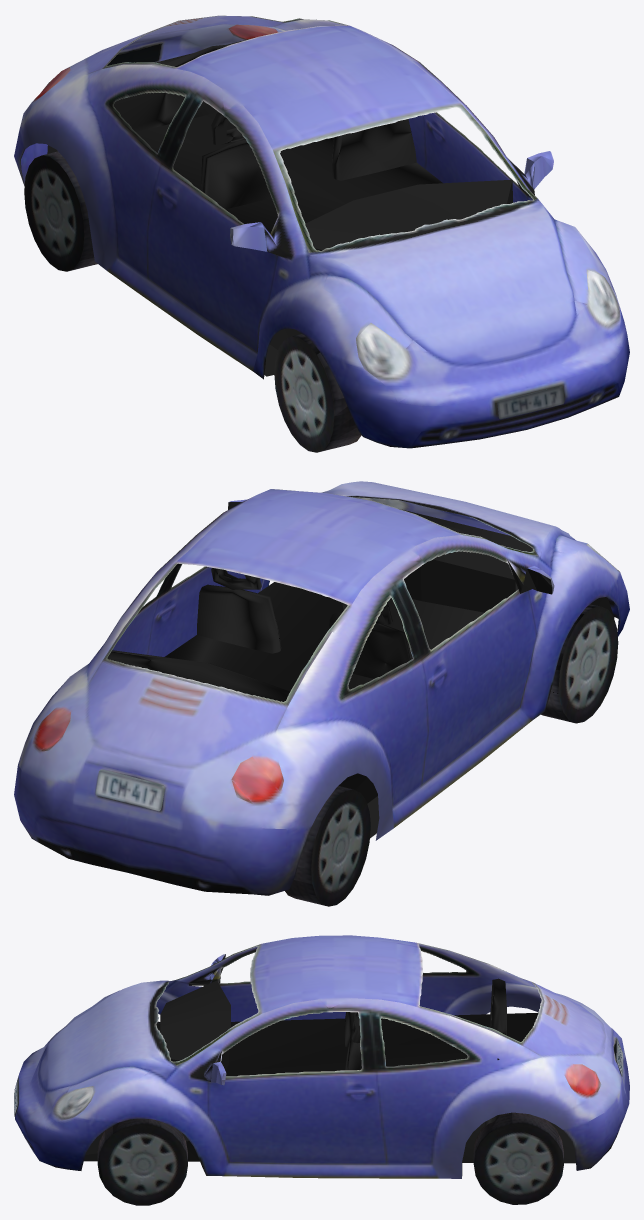
Rendered from lwpg014.obj.
The picture shows the model from 3 angles, top to bottom: view 1: azimuth 30°, elevation 25°; view 2: azimuth 150°, elevation 25°; view 3: azimuth 270°, elevation 25°; orthographic projection. The views are drawn at different scales.
Visible parts, largest first — view 1: lwpg014; view 2: lwpg014; view 3: lwpg014.
Part boxes in pixels (x1=…): lwpg014: x1=14, y1=15, x2=629, y2=452; lwpg014: x1=14, y1=481, x2=629, y2=906; lwpg014: x1=14, y1=935, x2=629, y2=1205.
Bounding box in the file's own units: 1.93 × 1.44 × 4.23.
2 materials, 1 textured.
